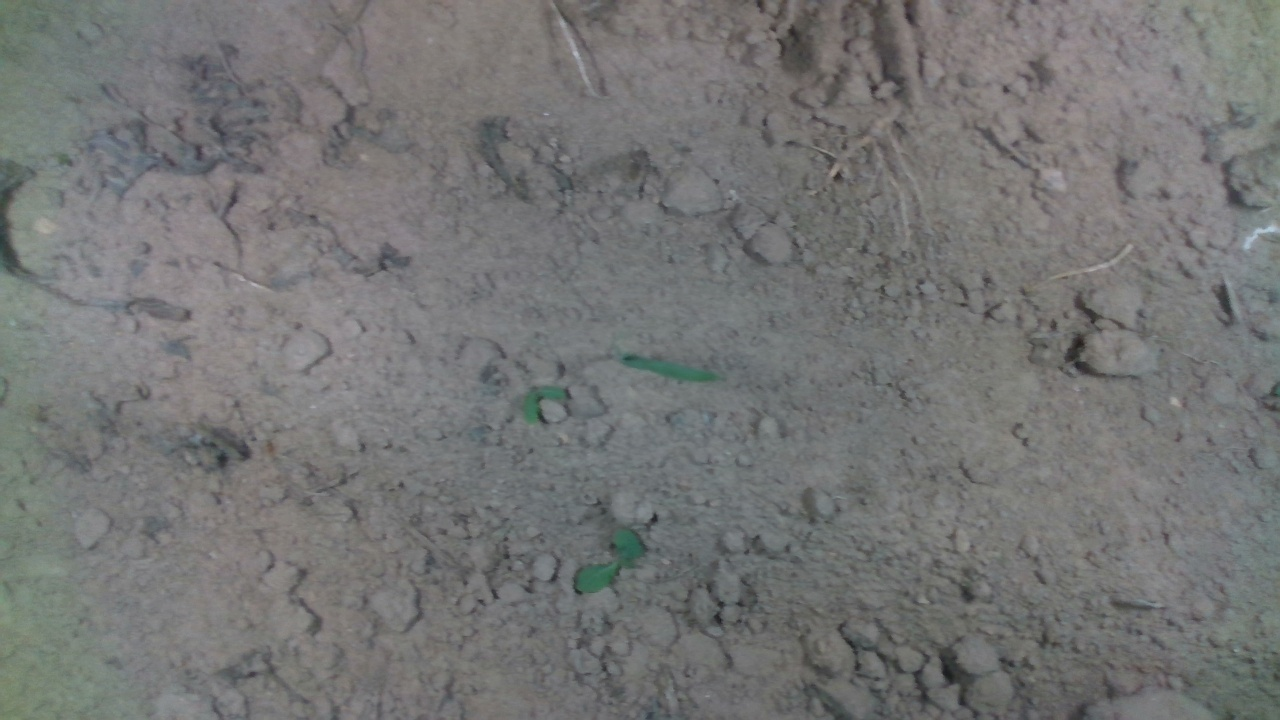weed: (570, 526, 649, 596)
